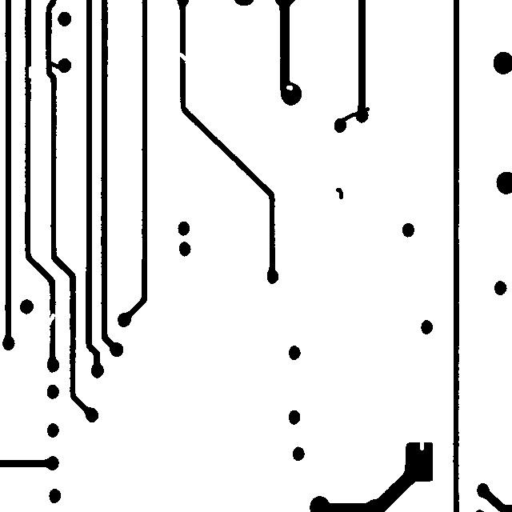copper: (328, 180, 350, 206)
mousebite: (21, 58, 40, 86), (412, 433, 431, 458)
open: (39, 306, 62, 333), (170, 45, 194, 68)
pin-hole: (278, 78, 300, 98)
short: (332, 99, 377, 131), (42, 54, 66, 76)
